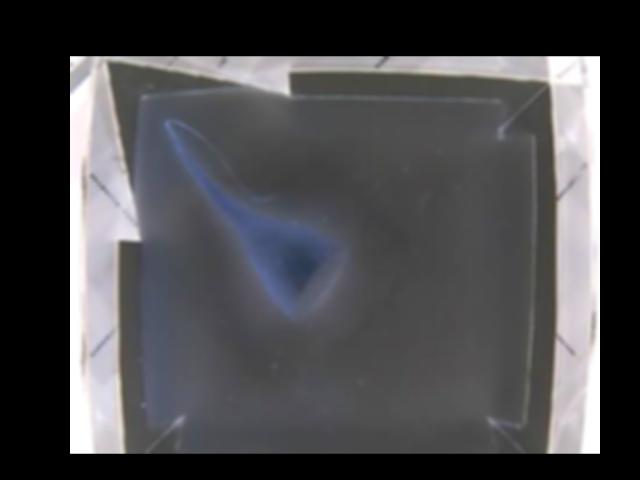Mooli: (233, 206, 349, 328)
